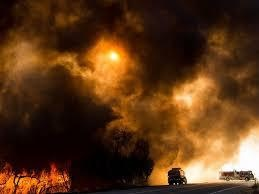fire: (0, 152, 73, 194)
